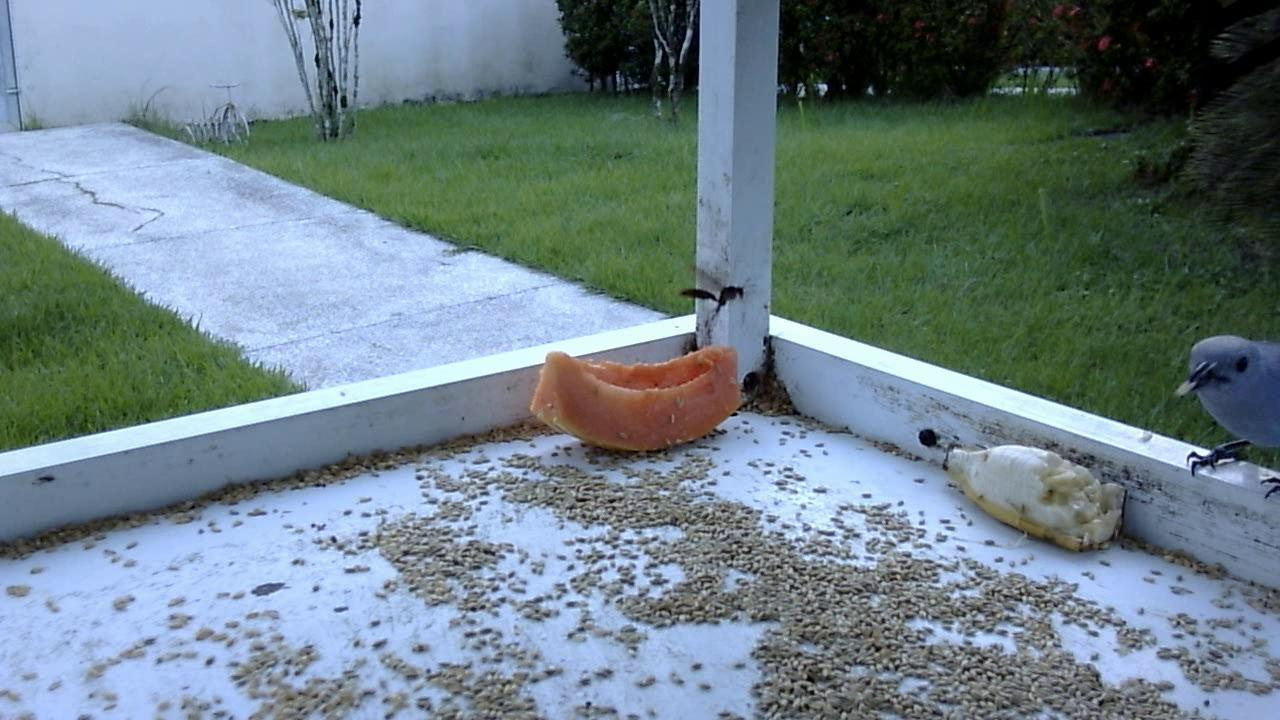sanhaco_da_amazonia: (1171, 326, 1276, 501)
